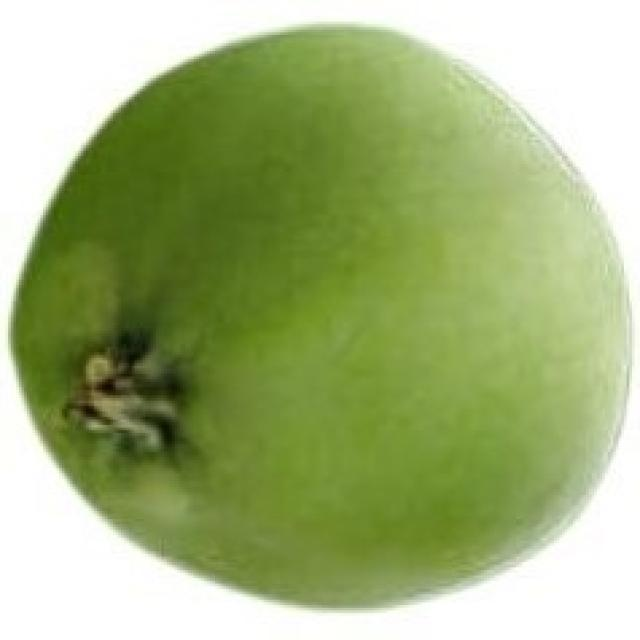apple: (13, 27, 628, 605)
